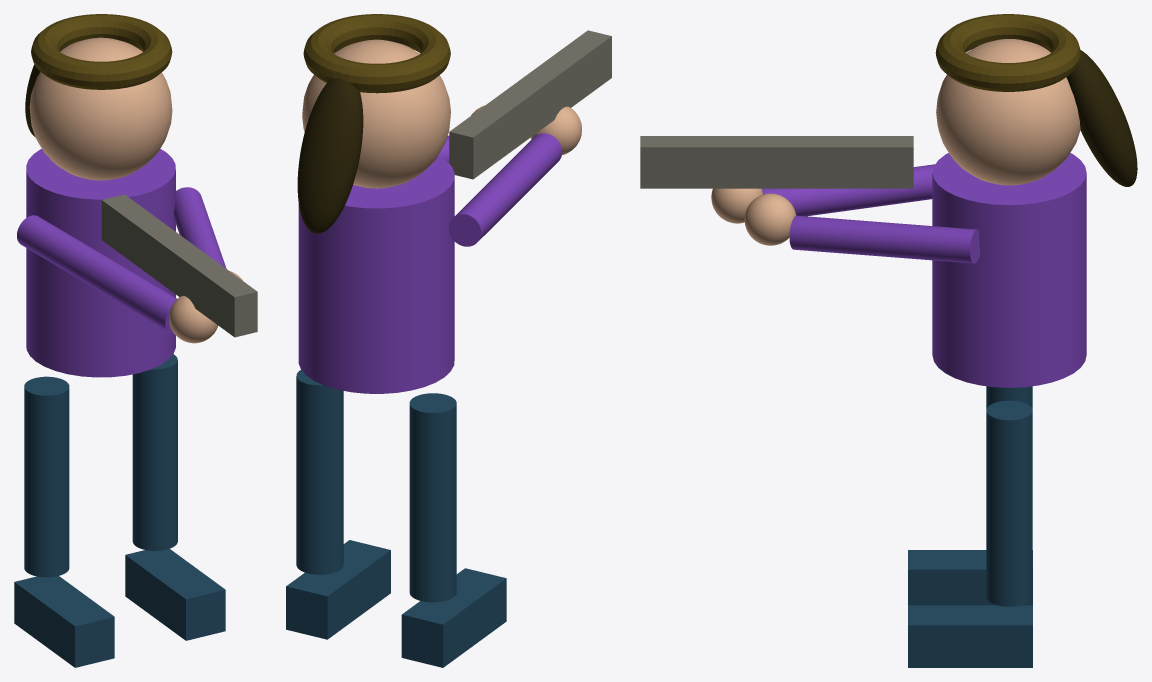
The model's file is SM_Char03.glb.
The picture shows the model from 3 angles, left to right: view 1: azimuth 30°, elevation 25°; view 2: azimuth 150°, elevation 25°; view 3: azimuth 270°, elevation 25°; orthographic projection. The views are drawn at different scales.
Parts seen in each view (by area): view 1: Cube.005; view 2: Cube.005; view 3: Cube.005.
Boxes of the visible parts, x1=… form: Cube.005: x1=14, y1=14, x2=257, y2=667; Cube.005: x1=286, y1=14, x2=611, y2=667; Cube.005: x1=640, y1=14, x2=1137, y2=667.
Size of the model in its own units: 0.5415 by 1.71 by 1.3.
